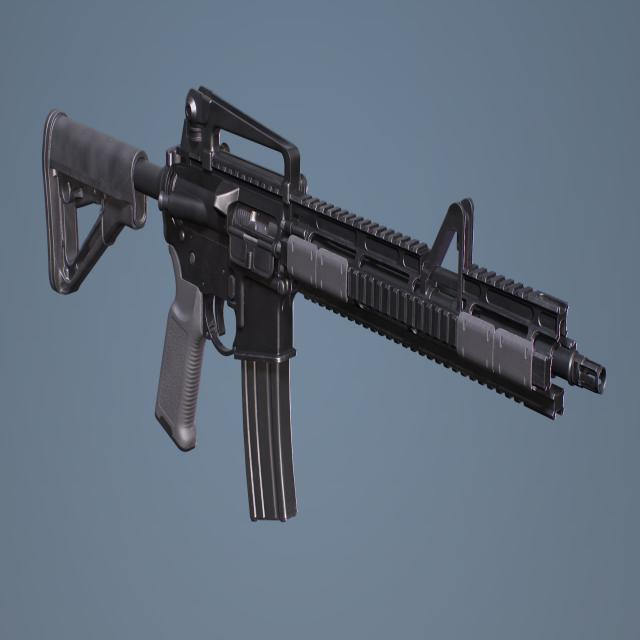Rifle: (43, 87, 607, 524)
